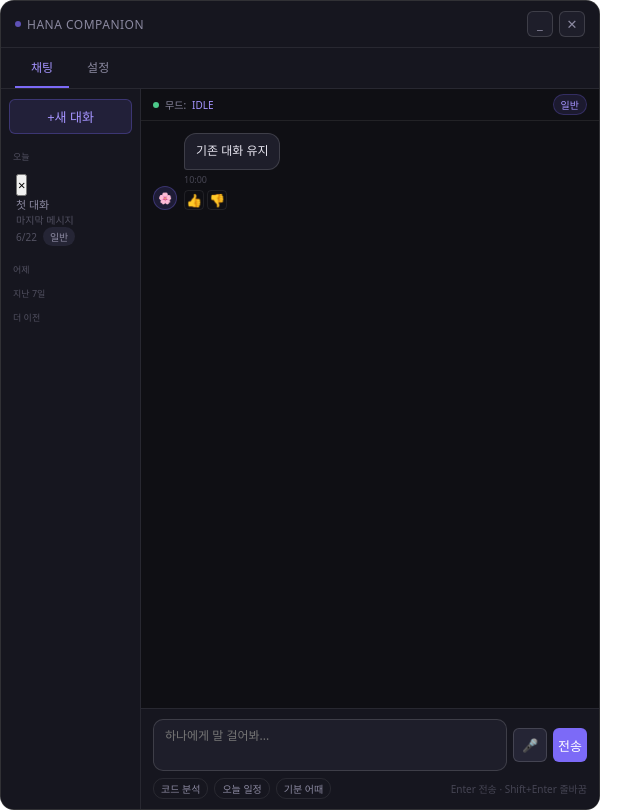
Test case: MainWindow › tab switch preserves chat state
expect the text "기존 대화 유지" is shown: met, box [184,133,280,170]
Click the button with class "tab" showing "설정". click: (98, 68)
box: [71,48,125,88]
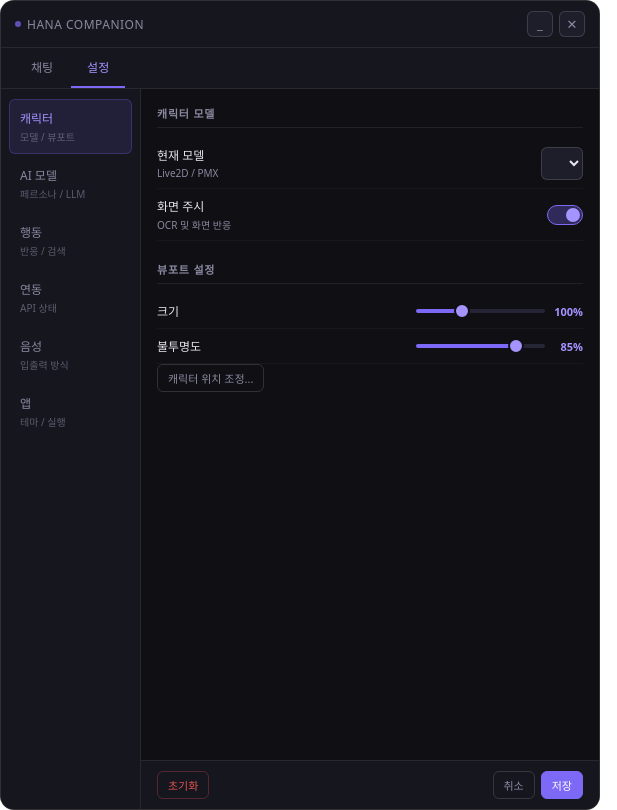
expect the element with test id "settings-panel" that starts with "캐릭터" is shown: met
Click the button with class "tab" showing "채팅". click: (42, 68)
box: [15,48,69,88]
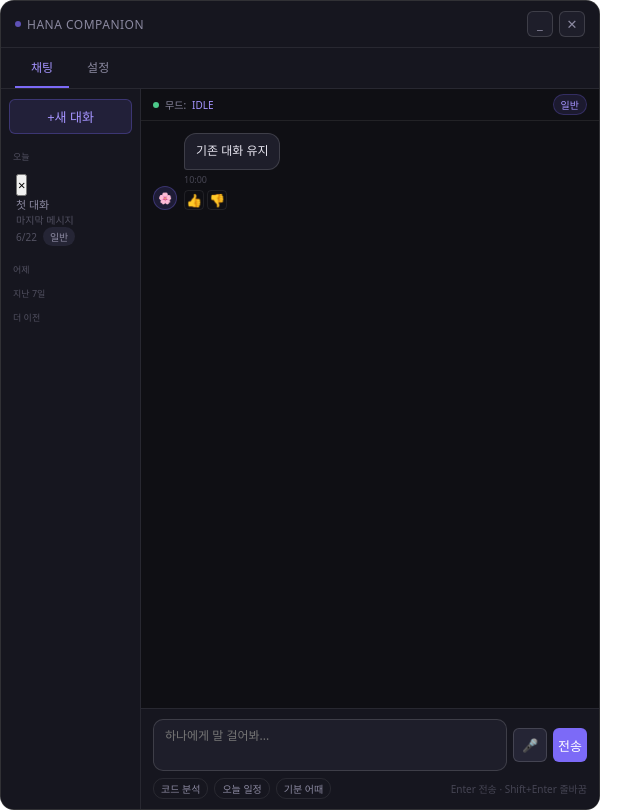
expect the element with test id "chat-layout" is shown: met
expect the text "기존 대화 유지" is shown: met, box [184,133,280,170]
